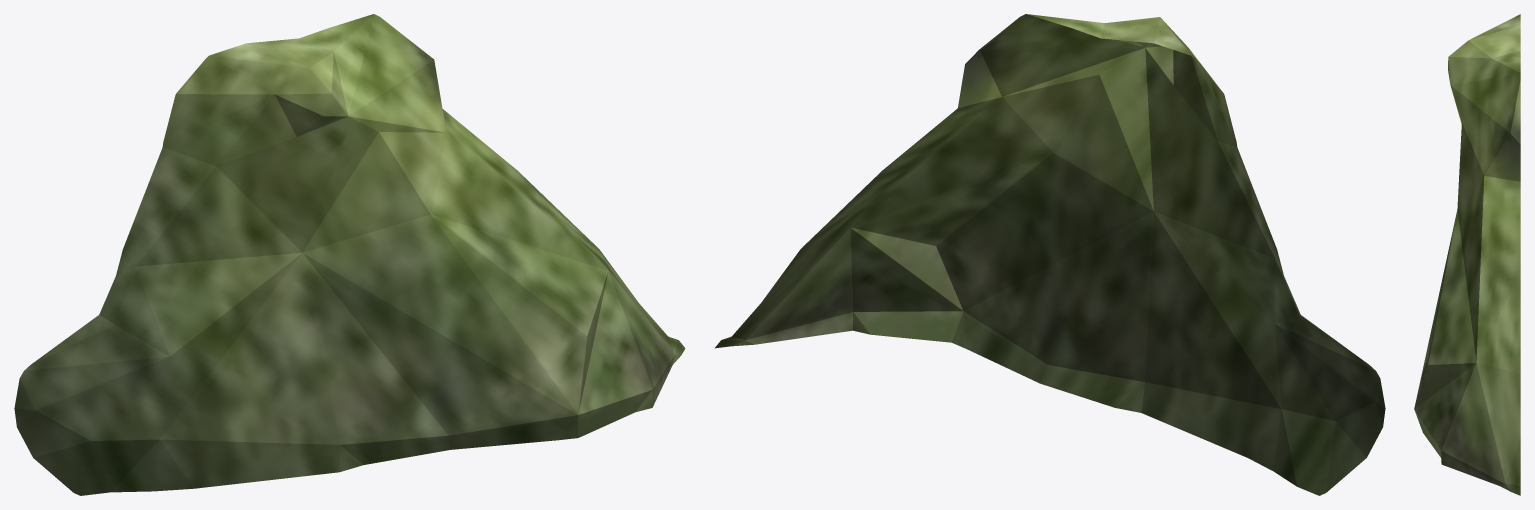
3 views of the same model, side by side, from view 1: azimuth 30°, elevation 25°; view 2: azimuth 150°, elevation 25°; view 3: azimuth 270°, elevation 25° (orthographic). The views are drawn at different scales.
Size of the model in its own units: 2.74 by 1.61 by 0.5022.
Materials: 1 (1 with a texture image).
